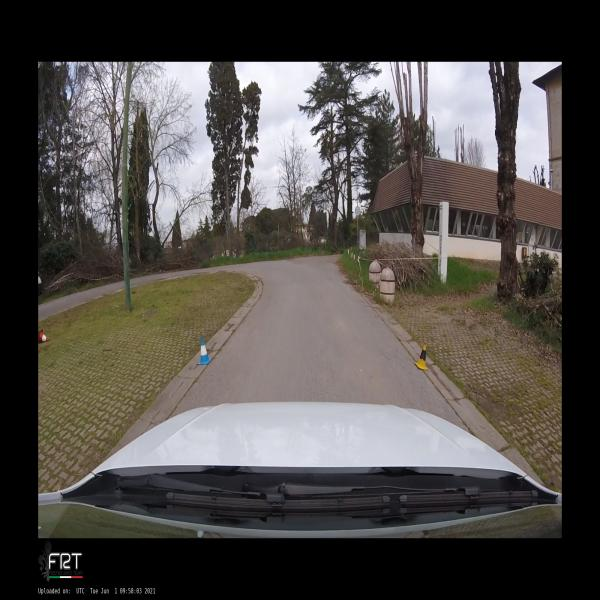blue_cone: (197, 338, 212, 364)
orange_cone: (38, 329, 50, 343)
yellow_cone: (414, 343, 429, 371)
